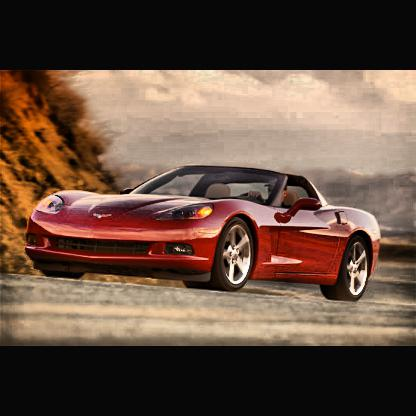Chevrolet Corvette Convertible 2012: (24, 160, 385, 306)
